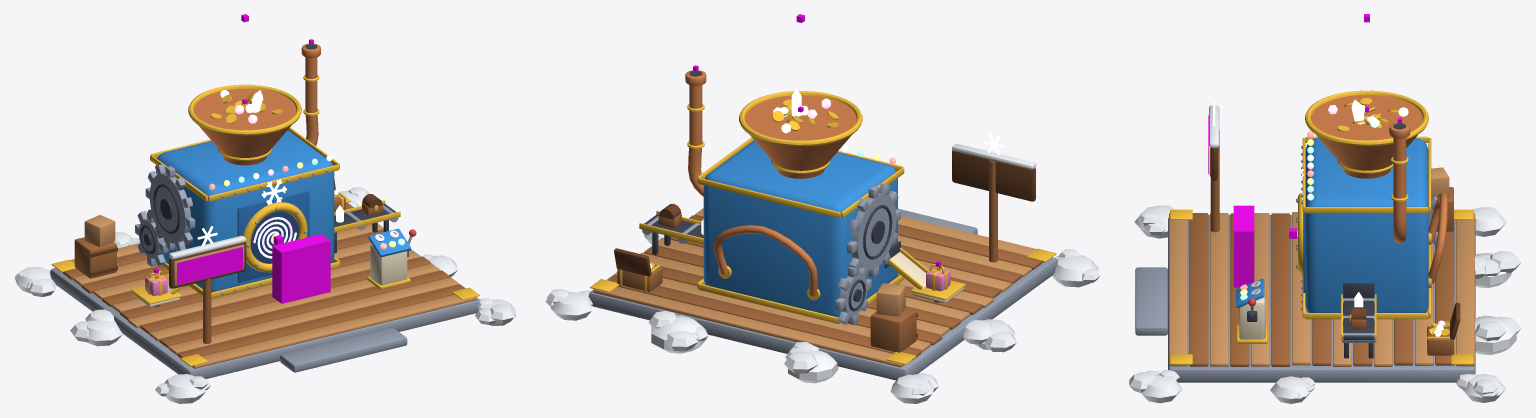
Rendered from CraftingMachine.fbx.
3 views of the same model, side by side, from view 1: azimuth 30°, elevation 25°; view 2: azimuth 150°, elevation 25°; view 3: azimuth 270°, elevation 25° (orthographic). The views are drawn at different scales.
Visible parts, largest first — view 1: CraftingMachine__Planks__D49A62SP, CraftingMachine__Body__3A96E6SP, CraftingMachine__Planks__A86A3CSP, CraftingMachine__SnowDrifts__F6FAFFSP, CraftingMachine__Base__96A0B2SP, CraftingMachine__Hopper__D8824ASP, CraftFX__Prompt__FF00FFSPT100, CraftingMachine__Step__96A0B2SP, CraftingMachine__PortBack__2A6FB8SP, CraftingMachine__Bands__FFC837SP, CraftGearA__Disc__9CA6BCSP, CraftingMachine__HopperRim__FFC837SP (+17 smaller); view 2: CraftingMachine__Body__3A96E6SP, CraftingMachine__Planks__D49A62SP, CraftingMachine__SnowDrifts__F6FAFFSP, CraftingMachine__Planks__A86A3CSP, CraftingMachine__Base__96A0B2SP, CraftingMachine__Hopper__D8824ASP, CraftingMachine__Bands__FFC837SP, CraftingMachine__SignFrame__6E4426SP, CraftGearA__Disc__9CA6BCSP, CraftingMachine__HopperRim__FFC837SP, CraftingMachine__Crates__A86A3CSP, CraftingMachine__BackPipe__D8824ASP (+14 smaller); view 3: CraftingMachine__Body__3A96E6SP, CraftingMachine__Planks__D49A62SP, CraftingMachine__Planks__A86A3CSP, CraftingMachine__SnowDrifts__F6FAFFSP, CraftingMachine__Base__96A0B2SP, CraftingMachine__Hopper__D8824ASP, CraftingMachine__Bands__FFC837SP, CraftingMachine__Step__96A0B2SP, CraftFX__Prompt__FF00FFSPT100, CraftingMachine__HopperRim__FFC837SP, CraftingMachine__Stack__D8824ASP, CraftingMachine__BackPipe__D8824ASP (+12 smaller).
Boxes of the visible parts, bbox=[...] form: CraftingMachine__Planks__D49A62SP: bbox=[62, 223, 477, 368]; CraftingMachine__Body__3A96E6SP: bbox=[156, 130, 334, 292]; CraftingMachine__Planks__A86A3CSP: bbox=[63, 203, 465, 357]; CraftingMachine__SnowDrifts__F6FAFFSP: bbox=[14, 187, 516, 403]; CraftingMachine__Base__96A0B2SP: bbox=[50, 202, 480, 378]; CraftingMachine__Hopper__D8824ASP: bbox=[194, 88, 296, 165]; CraftFX__Prompt__FF00FFSPT100: bbox=[272, 234, 330, 303]; CraftingMachine__Step__96A0B2SP: bbox=[280, 328, 407, 372]; CraftingMachine__PortBack__2A6FB8SP: bbox=[237, 190, 309, 282]; CraftingMachine__Bands__FFC837SP: bbox=[150, 127, 339, 298]; CraftGearA__Disc__9CA6BCSP: bbox=[149, 173, 190, 243]; CraftingMachine__HopperRim__FFC837SP: bbox=[188, 84, 301, 160]; CraftingMachine__Body__3A96E6SP: bbox=[703, 140, 897, 317]; CraftingMachine__Planks__D49A62SP: bbox=[593, 208, 1043, 367]; CraftingMachine__SnowDrifts__F6FAFFSP: bbox=[545, 232, 1100, 403]; CraftingMachine__Planks__A86A3CSP: bbox=[607, 215, 1042, 359]; CraftingMachine__Base__96A0B2SP: bbox=[588, 252, 1057, 380]; CraftingMachine__Hopper__D8824ASP: bbox=[745, 95, 856, 178]; CraftingMachine__Bands__FFC837SP: bbox=[697, 137, 904, 323]; CraftingMachine__SignFrame__6E4426SP: bbox=[952, 150, 1035, 201]; CraftGearA__Disc__9CA6BCSP: bbox=[851, 193, 896, 269]; CraftingMachine__HopperRim__FFC837SP: bbox=[739, 91, 862, 174]; CraftingMachine__Crates__A86A3CSP: bbox=[870, 307, 916, 352]; CraftingMachine__BackPipe__D8824ASP: bbox=[713, 225, 817, 296]; CraftingMachine__Body__3A96E6SP: bbox=[1305, 138, 1428, 312]; CraftingMachine__Planks__D49A62SP: bbox=[1169, 212, 1474, 366]; CraftingMachine__Planks__A86A3CSP: bbox=[1189, 213, 1454, 366]; CraftingMachine__SnowDrifts__F6FAFFSP: bbox=[1129, 205, 1521, 403]; CraftingMachine__Base__96A0B2SP: bbox=[1168, 215, 1475, 382]; CraftingMachine__Hopper__D8824ASP: bbox=[1311, 94, 1422, 178]; CraftingMachine__Bands__FFC837SP: bbox=[1302, 136, 1431, 319]; CraftingMachine__Step__96A0B2SP: bbox=[1135, 267, 1167, 335]; CraftFX__Prompt__FF00FFSPT100: bbox=[1233, 205, 1254, 287]; CraftingMachine__HopperRim__FFC837SP: bbox=[1305, 90, 1428, 173]; CraftingMachine__Stack__D8824ASP: bbox=[1393, 137, 1406, 243]; CraftingMachine__BackPipe__D8824ASP: bbox=[1428, 192, 1447, 283].
Size of the model in its own units: 22.23 by 16.41 by 19.12.
